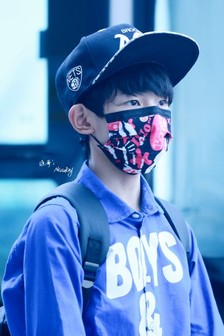face_mask: (102, 85, 171, 175)
